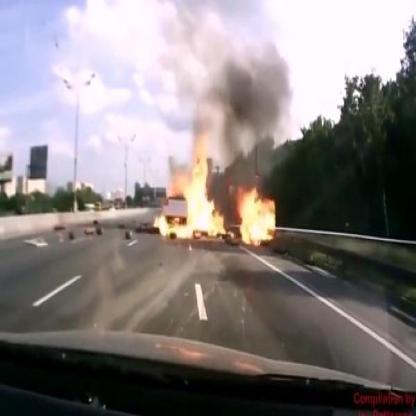fire: (148, 136, 279, 252)
